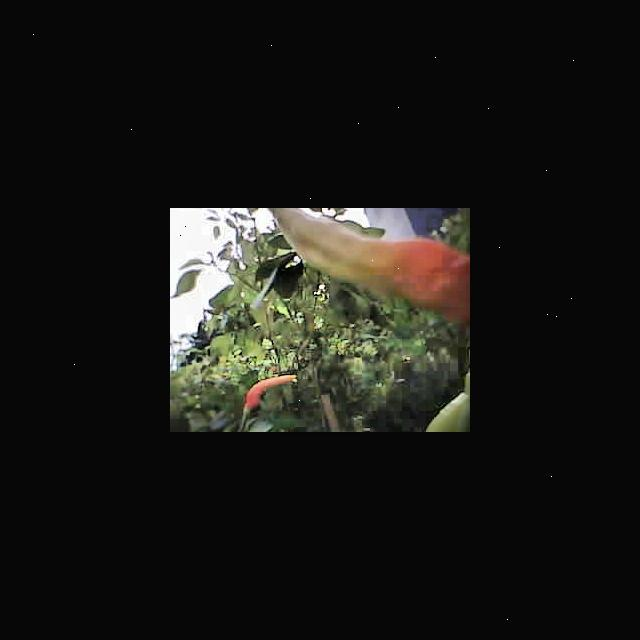Cabai: (275, 208, 470, 316), (236, 373, 302, 408)
